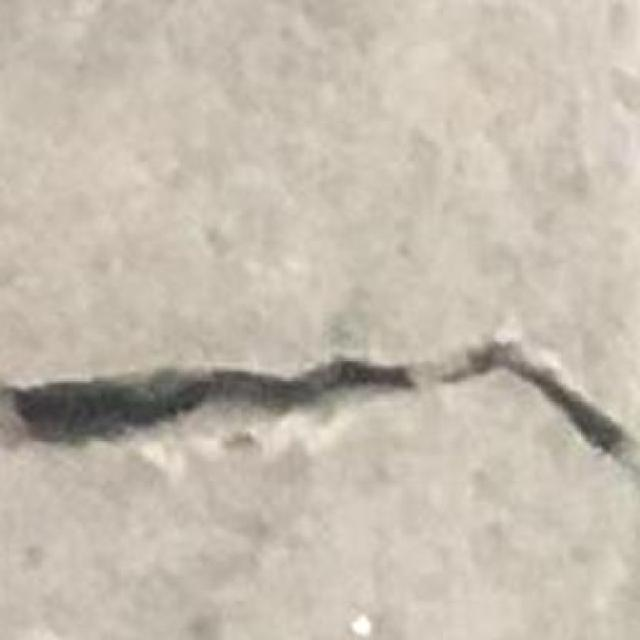Crack: (3, 329, 640, 482)
